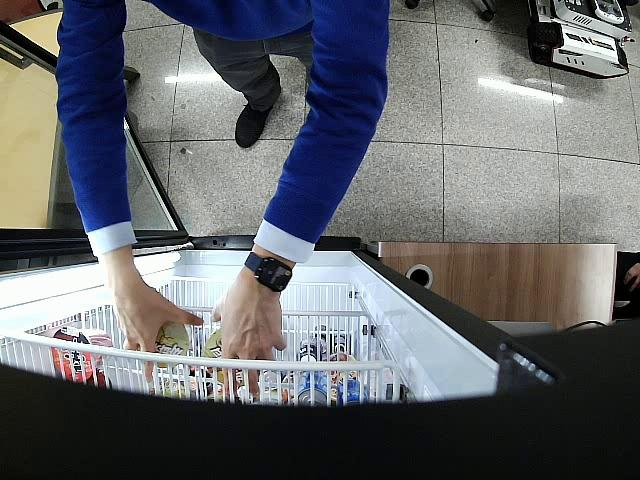00_hand: (106, 278, 203, 380), (211, 290, 287, 397)
04_chapagetti_S: (136, 322, 193, 369), (202, 327, 224, 384)
